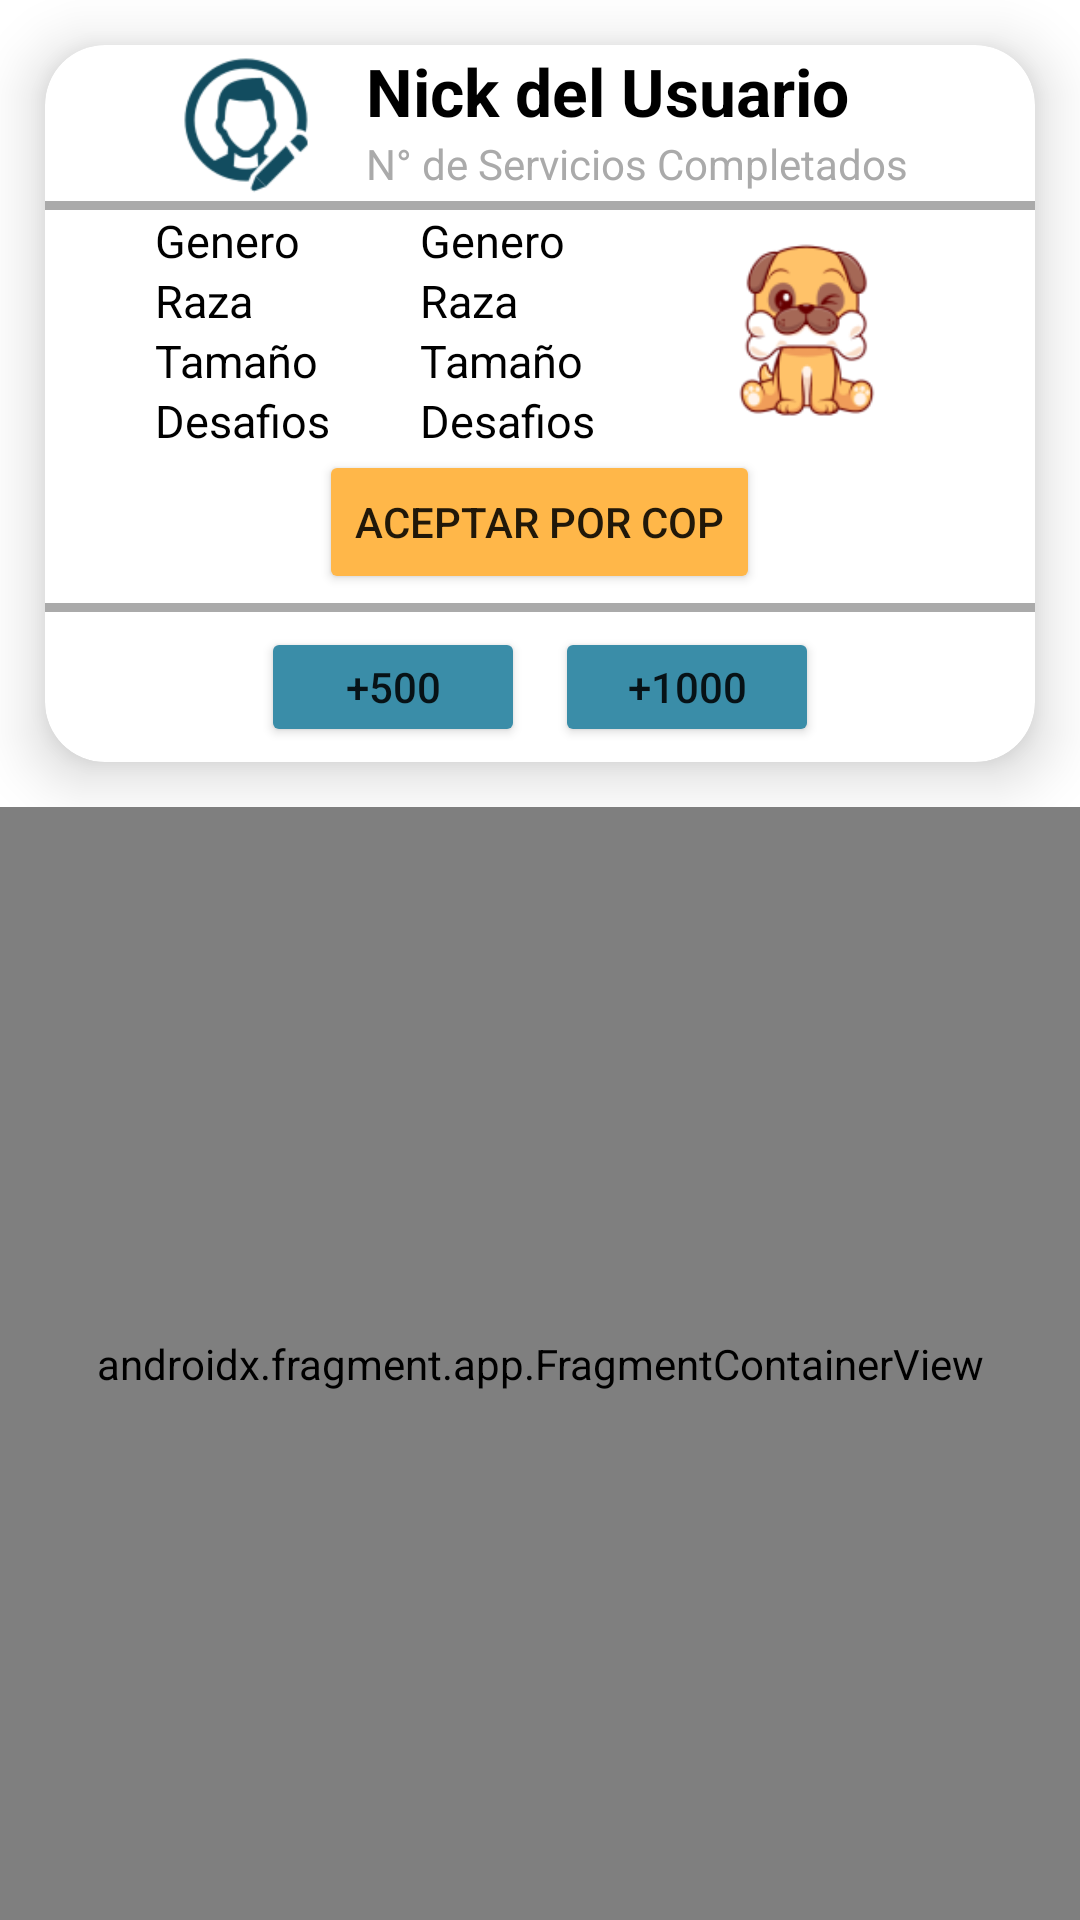

Screen size 1080px x 1920px. Icon name, then its box in pixels as [left=x1, top=y1, right=x2, bottom=y2]:
foto perfil: [left=184, top=58, right=308, bottom=192]
perro: [left=739, top=244, right=874, bottom=416]
